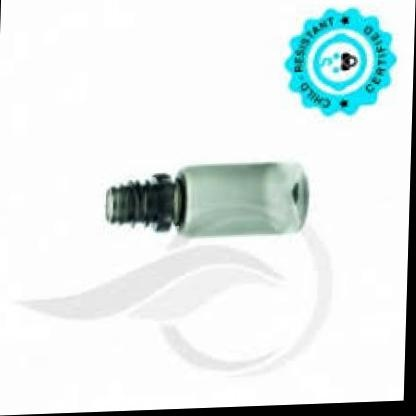trash: (106, 162, 308, 235)
